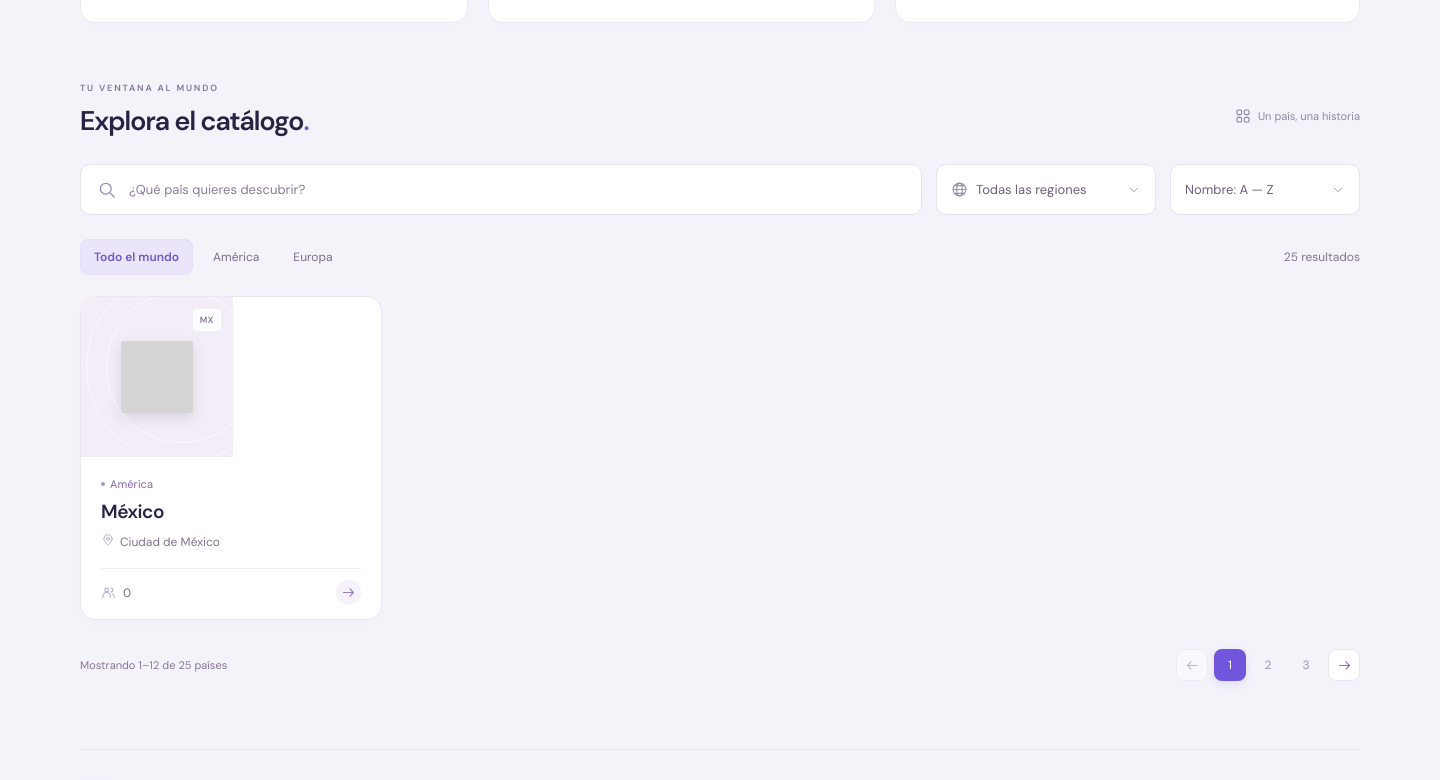
shows retryable detail errors without using another provider or stale modal content
(page scrolled)
Click the button with aria-label "Explorar México": (231, 458) left=80, top=296, right=382, bottom=620
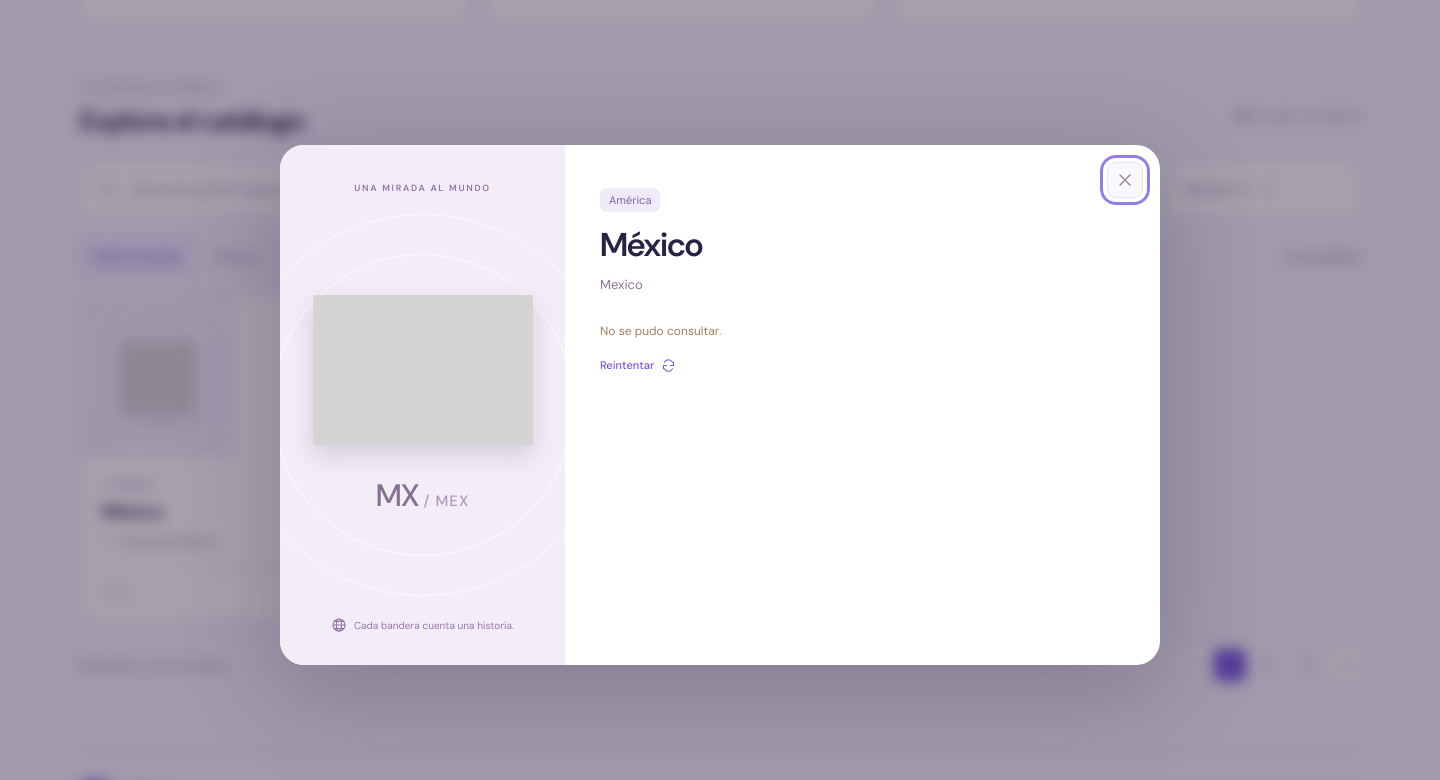
Expected: the message shows "No se pudo consultar.", left=600, top=323, right=721, bottom=339
Click the button "Reintentar": (638, 366) left=600, top=351, right=676, bottom=380
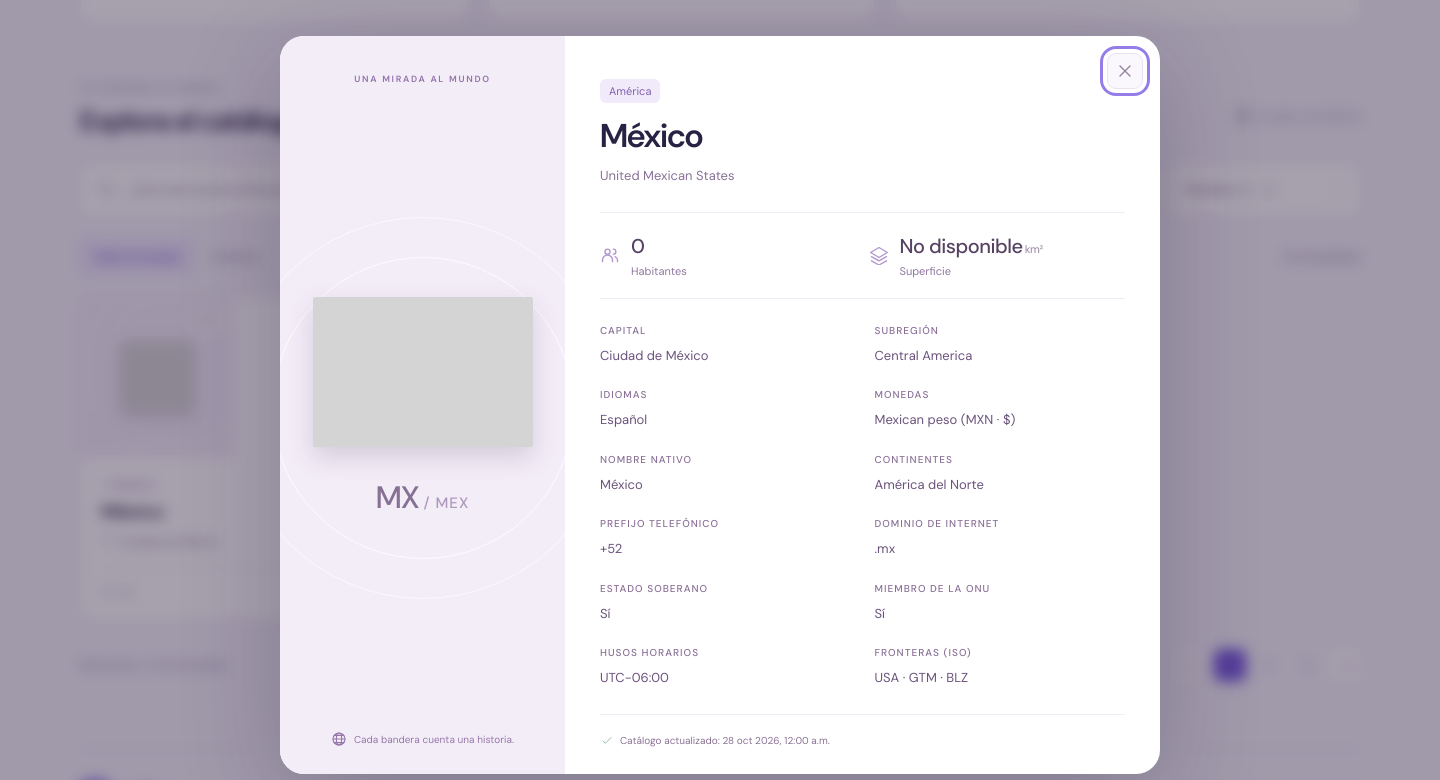
Expected: the text "Español" is shown, left=600, top=411, right=647, bottom=428
